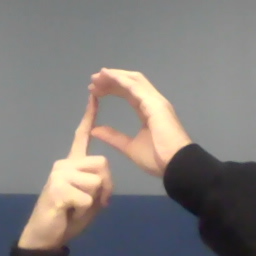P: (38, 64, 175, 228)
